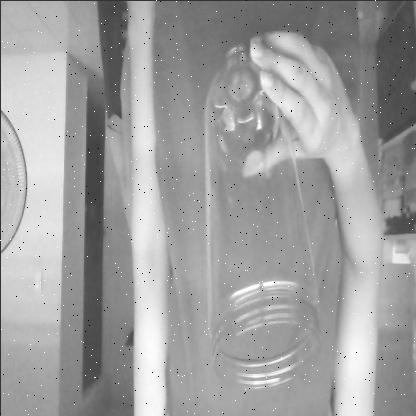Plastic Bottle: (199, 42, 323, 393)
